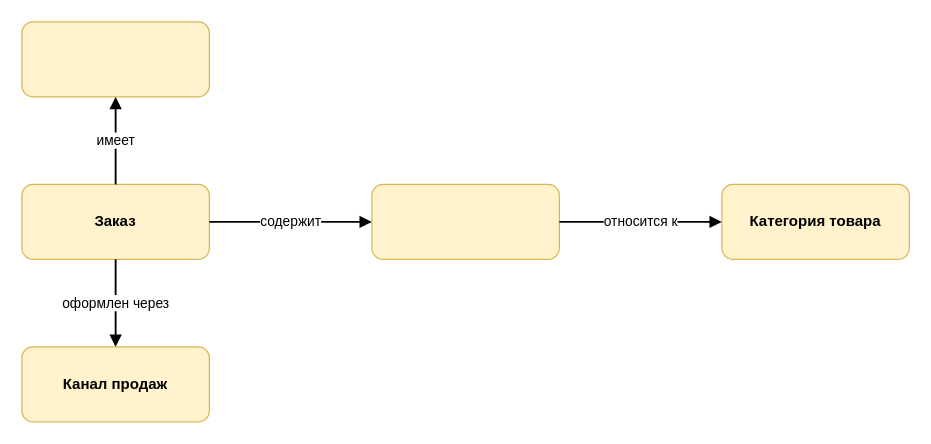
Some shapes in this 931 by 444 pixel diagram are drawn without their labels. Here are the shapes that lost their labels. From the top down, the centre of each, then its label:
At point (115, 59): "Статус заказа".
At point (465, 221): "Товар".
